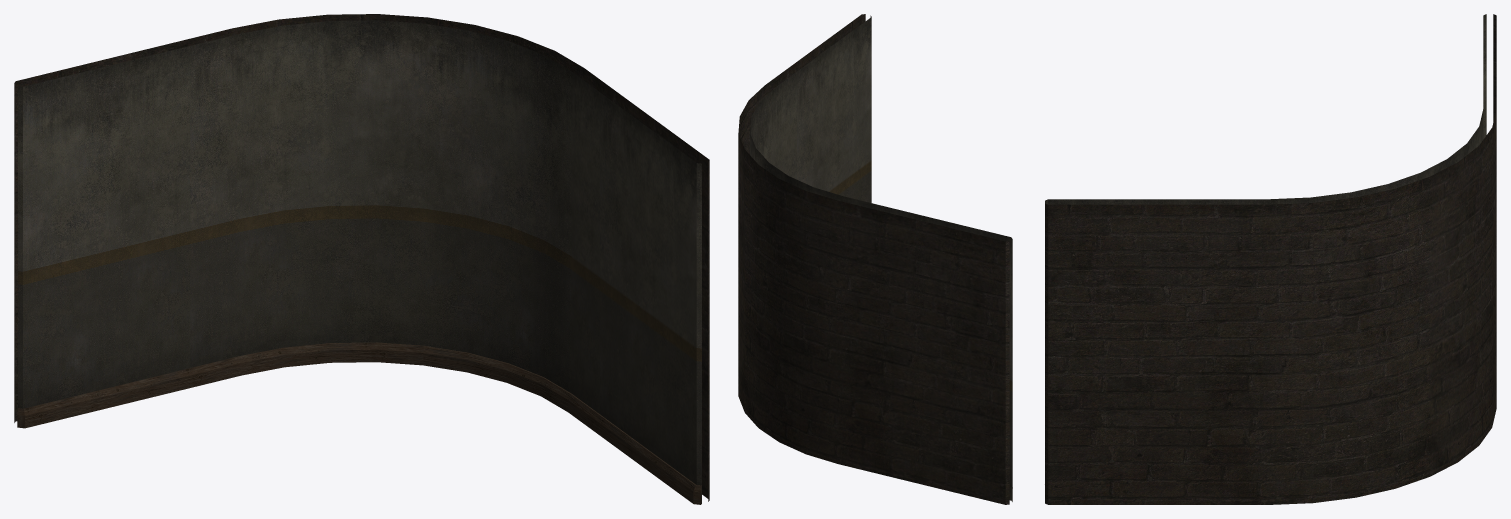
The model's file is wall_1_rounded_corner_1_2.obj.
The picture shows the model from 3 angles, left to right: view 1: azimuth 30°, elevation 25°; view 2: azimuth 150°, elevation 25°; view 3: azimuth 270°, elevation 25°; orthographic projection. The views are drawn at different scales.
Visible parts, largest first — view 1: wall_1_rounded_corner_1_2; view 2: wall_1_rounded_corner_1_2; view 3: wall_1_rounded_corner_1_2.
Boxes of the visible parts, <box> form: wall_1_rounded_corner_1_2: <box>14,14,709,504</box>; wall_1_rounded_corner_1_2: <box>738,14,1012,504</box>; wall_1_rounded_corner_1_2: <box>1045,14,1496,504</box>.
Size of the model in its own units: 4.11 by 3 by 4.11.
